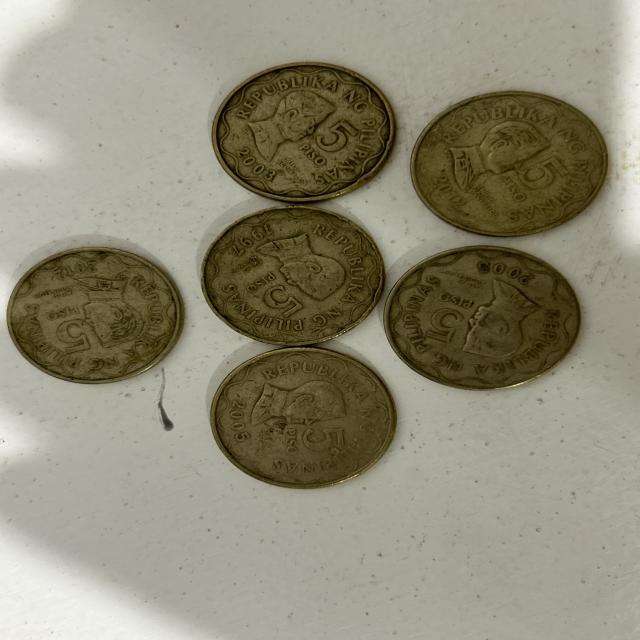5_Old_Front: (417, 279, 478, 350), (234, 269, 309, 323), (494, 154, 569, 202), (38, 302, 100, 358), (272, 423, 356, 461), (302, 120, 365, 170)
